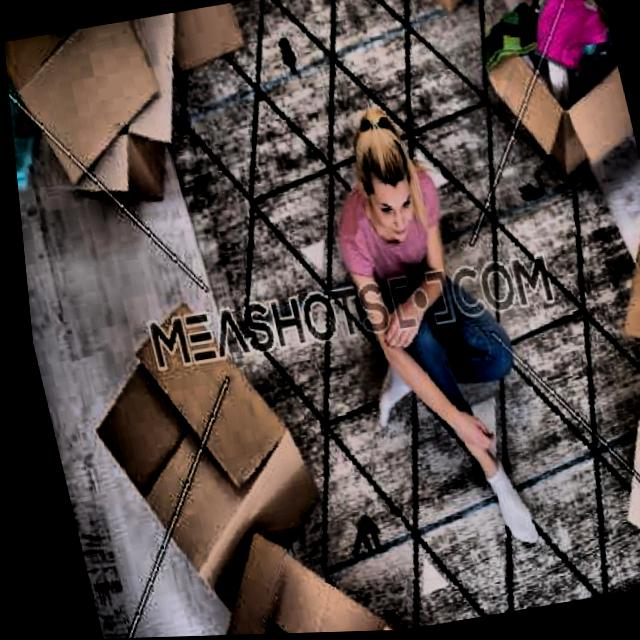Cardbox: (60, 302, 327, 598), (1, 4, 270, 257), (131, 505, 416, 638)
